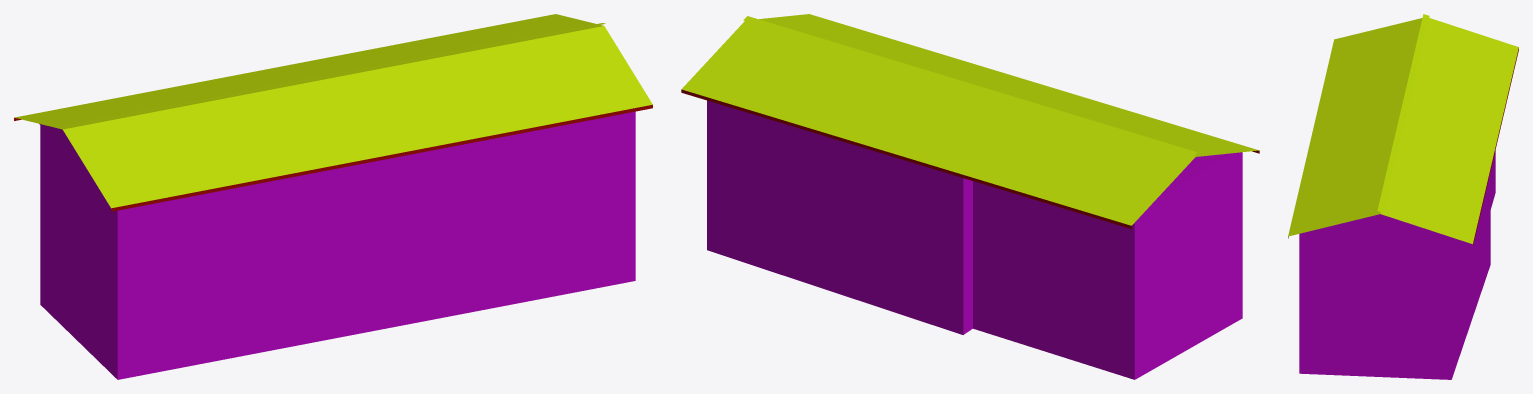
The model's file is rmc_21.glb.
The picture shows the model from 3 angles, left to right: view 1: azimuth 30°, elevation 25°; view 2: azimuth 150°, elevation 25°; view 3: azimuth 270°, elevation 25°; orthographic projection. The views are drawn at different scales.
Visible parts, largest first — view 1: rmc_21; view 2: rmc_21; view 3: rmc_21.
Boxes of the visible parts, bbox=[...] form: rmc_21: bbox=[14, 14, 652, 379]; rmc_21: bbox=[681, 14, 1259, 379]; rmc_21: bbox=[1288, 14, 1518, 379].
Bounding box in the file's own units: 18.75 × 7.26 × 8.93.
